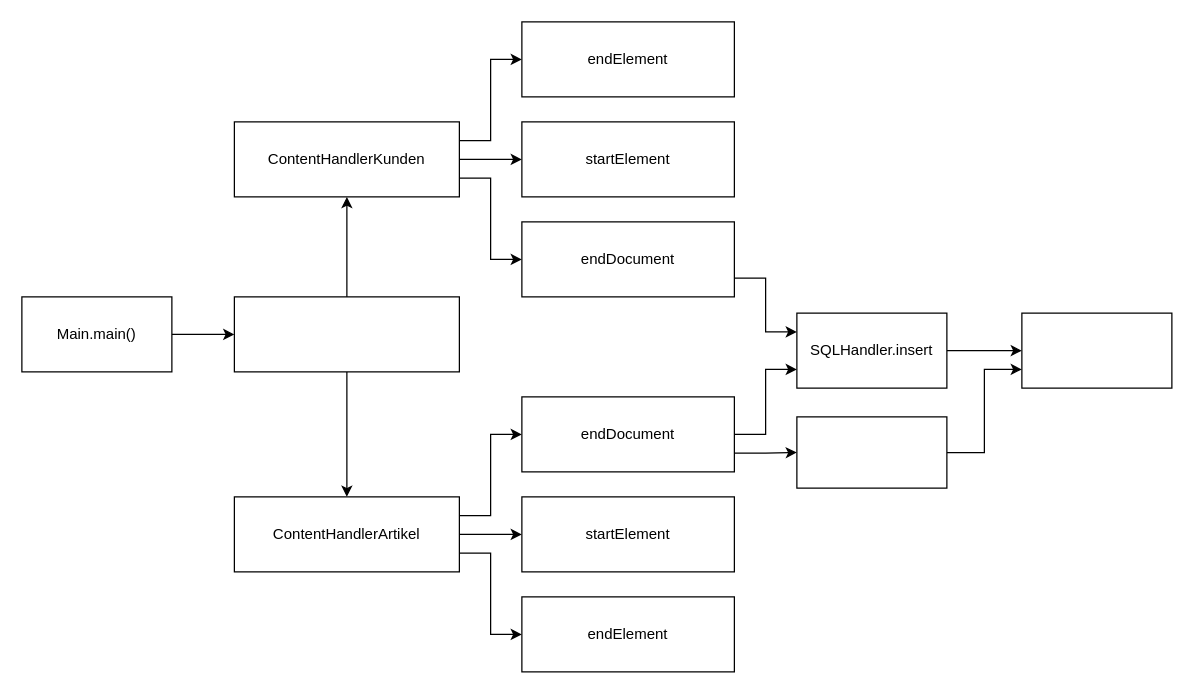
Image size: 1194x694. Some labels were removed from this diagram. Each missing label, with the centre of its shape:
SAXPareserE.parseXmlFile: pixel 346 334
SQLConnection: pixel 1096 350
SQLHandler.select: pixel 871 452
